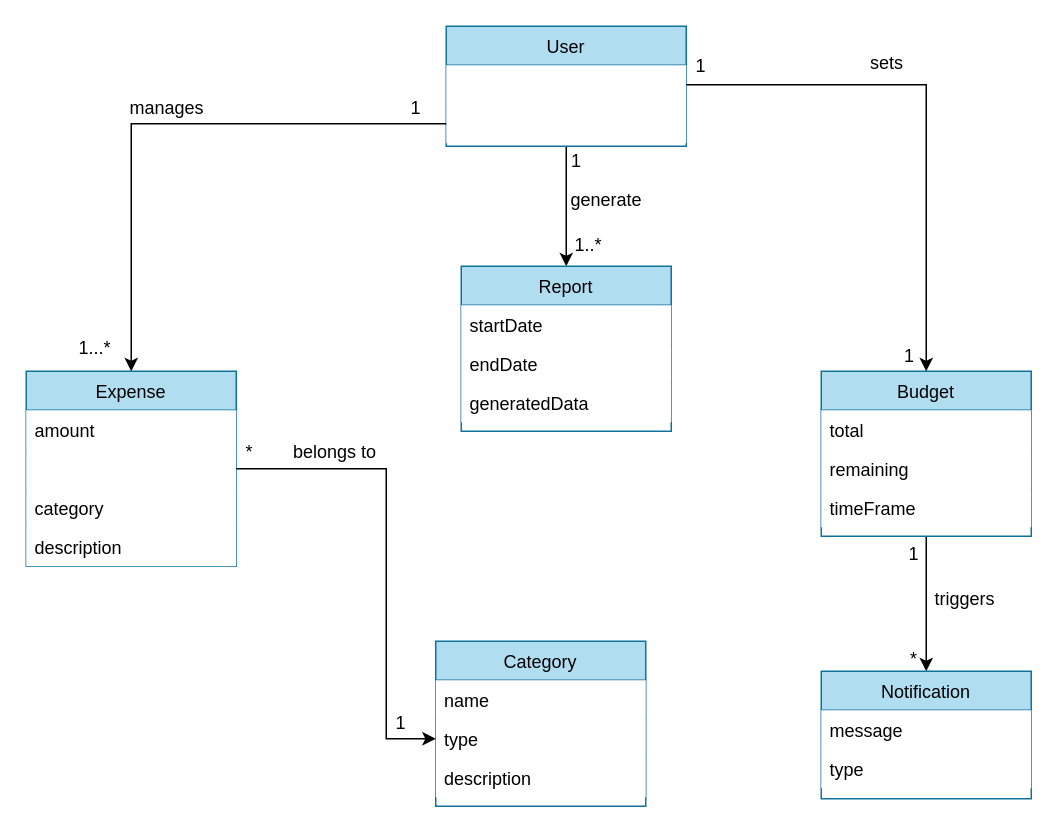
This 1058x833 diagram has some shape labels left out. The shapes that lost their labels are listed below. From the top down, each one's centre as x and y in pixels, then its label:
the point at 566,84: themePreference
the point at 566,123: Currency
the point at 131,468: date
